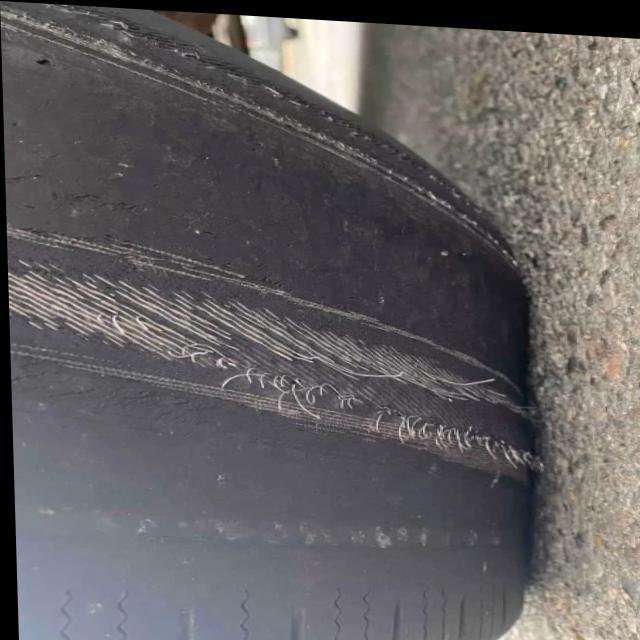Flat spots: (15, 205, 492, 640), (20, 25, 259, 198)
